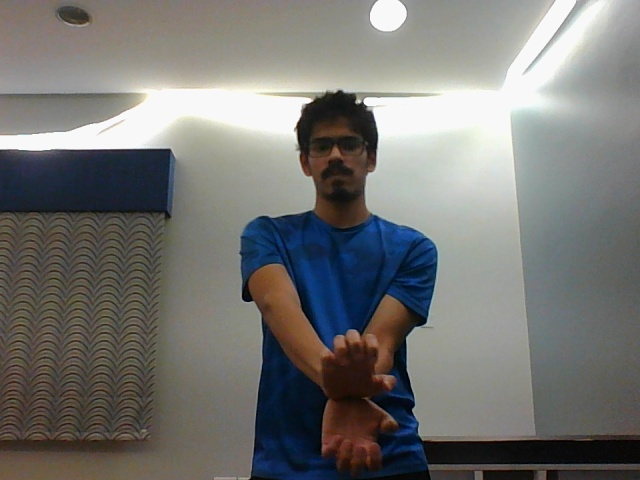blast: (315, 327, 399, 470)
